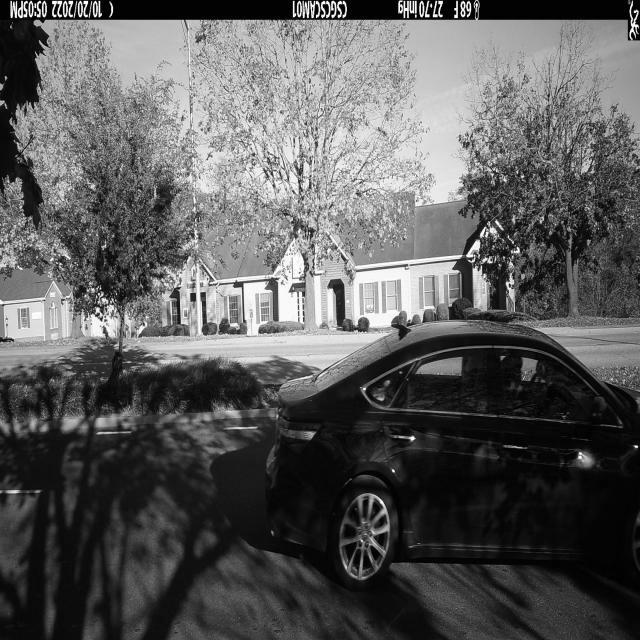Sedan: (263, 320, 640, 598)
